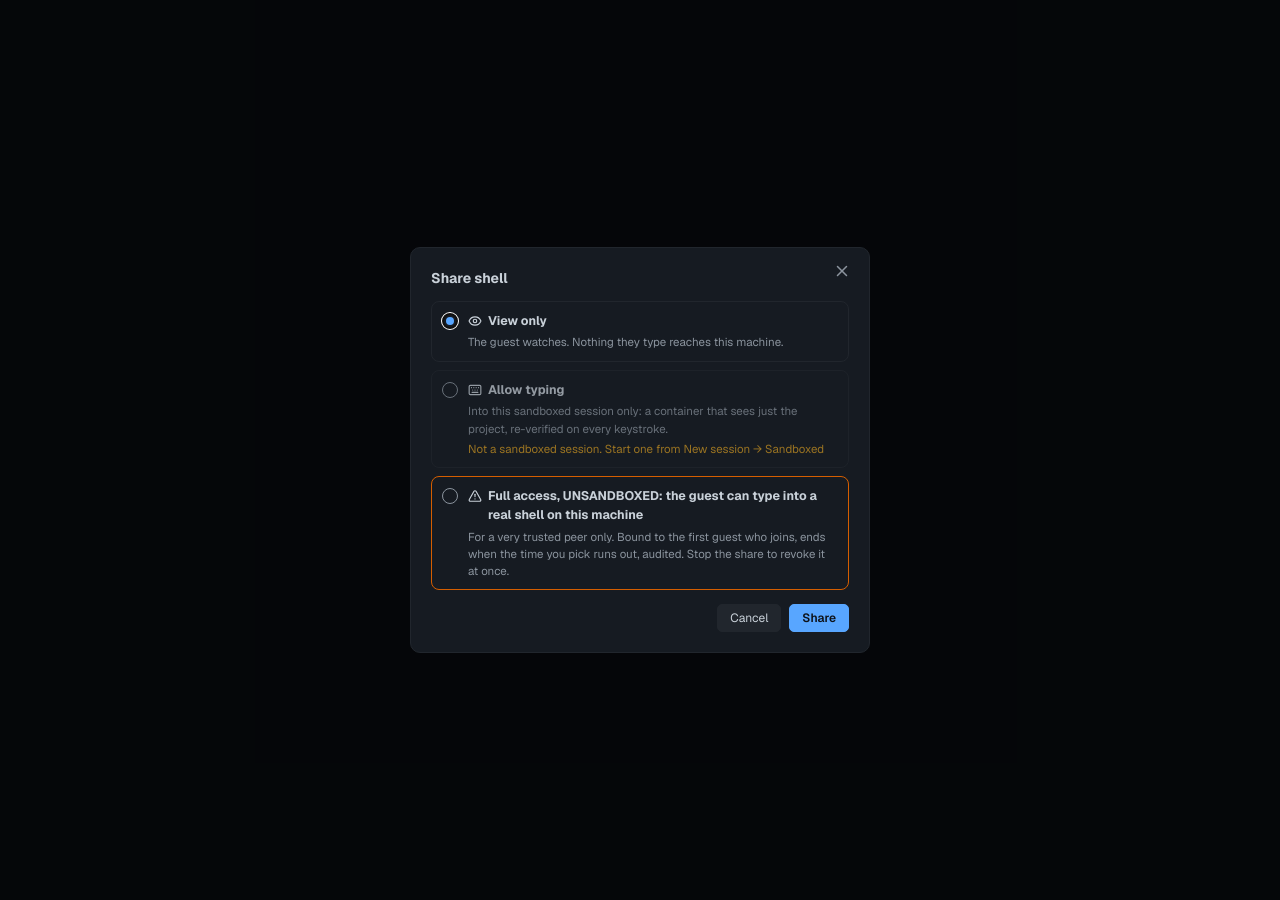
Test: back to View only drops the override: the confirmation hides and Share is plain again
Click the 3rd radio button named "UNSANDBOXED": [450, 496] box [442,488,458,504]
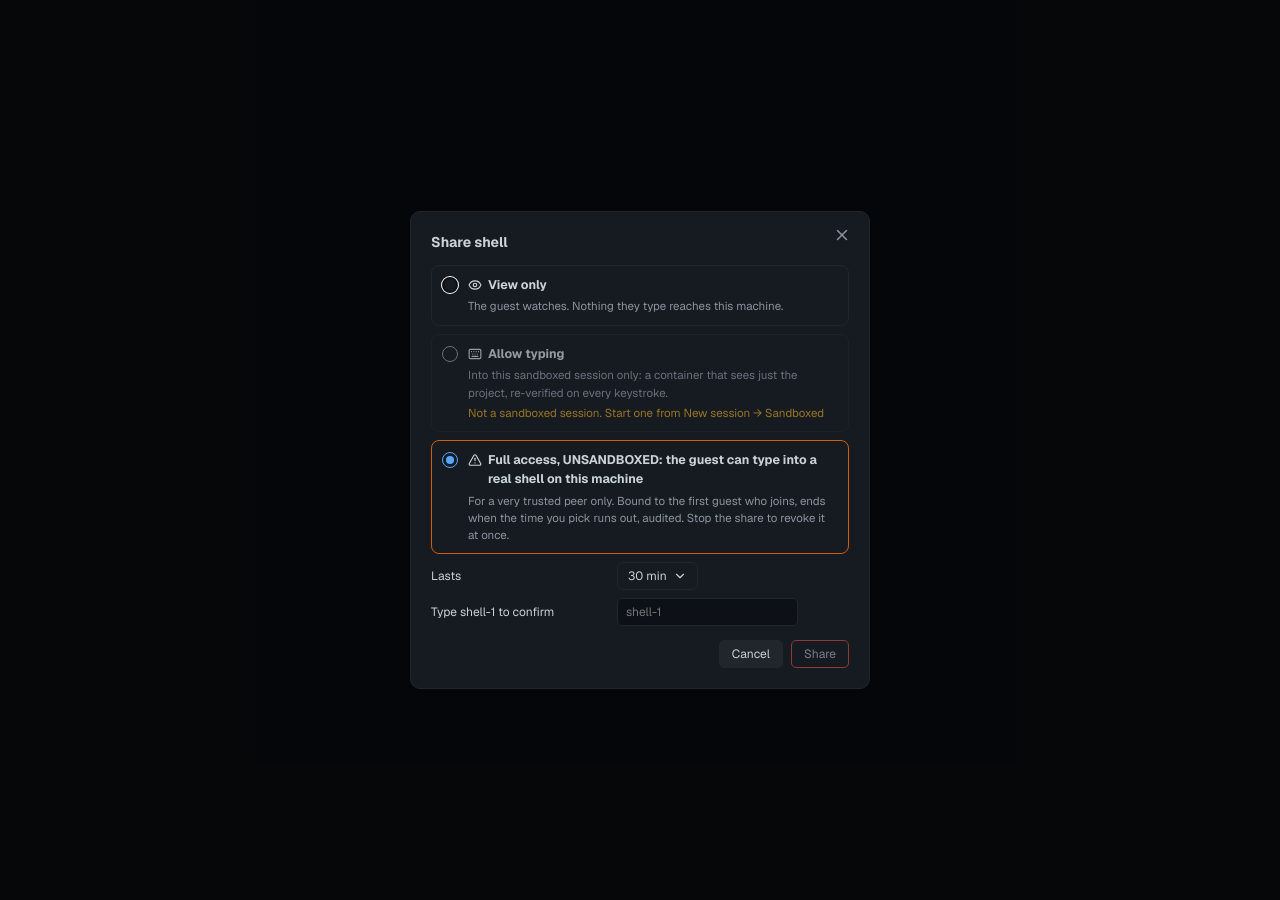
Click the radio button named "View only" next to "View only": [450, 285] box [442,277,458,293]
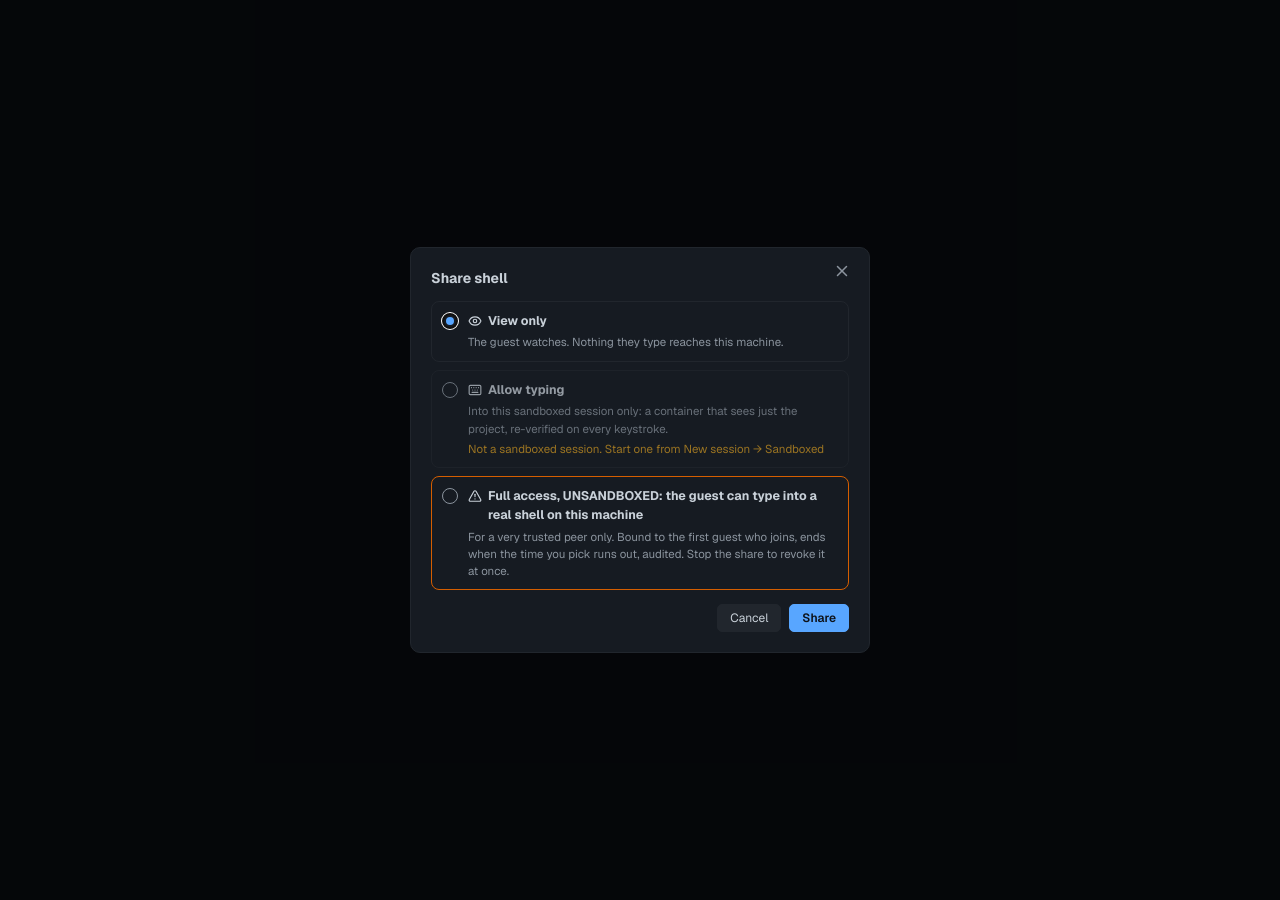
Result: the label labelled "to confirm" is gone
